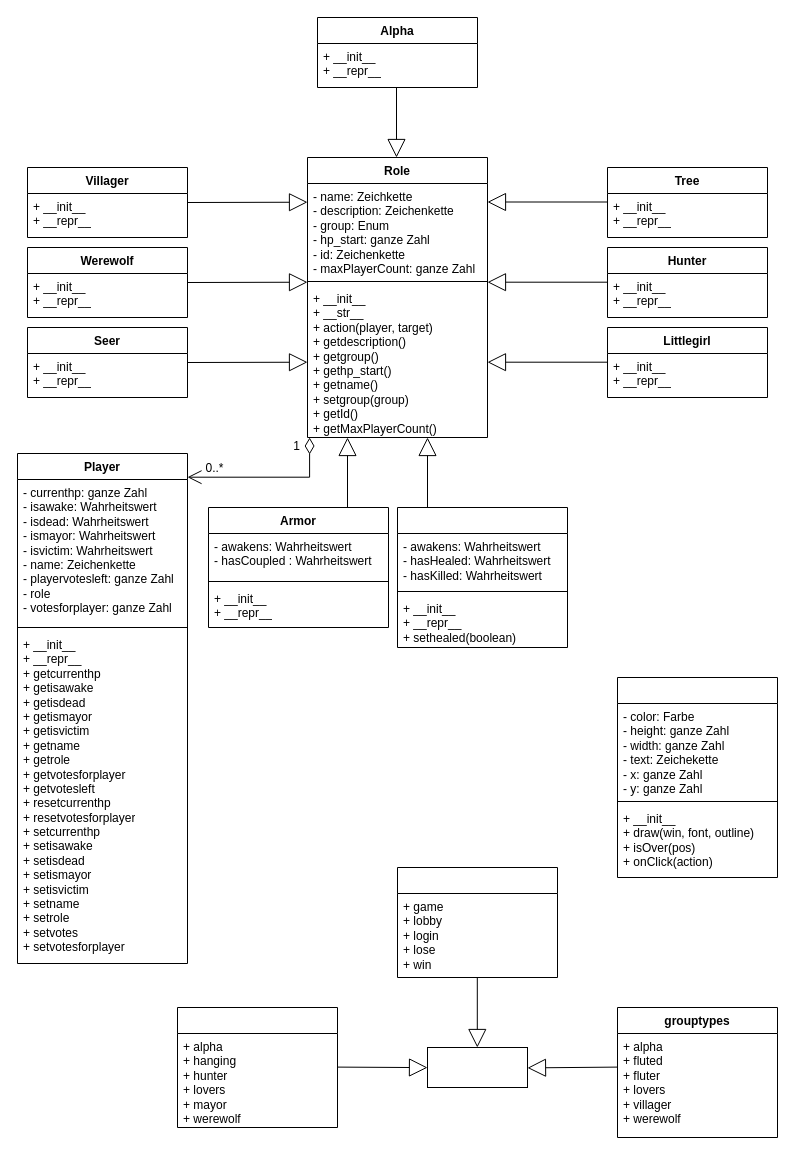
Some shapes in this 795 by 1158 pixel diagram are drawn without their labels. Each missing label, with the box of its shape:
announcementtypes: (176, 1006, 338, 1128)
Button: (616, 676, 778, 878)
Enum: (426, 1046, 528, 1088)
windowtypes: (396, 866, 558, 978)
Witch: (396, 506, 568, 648)
